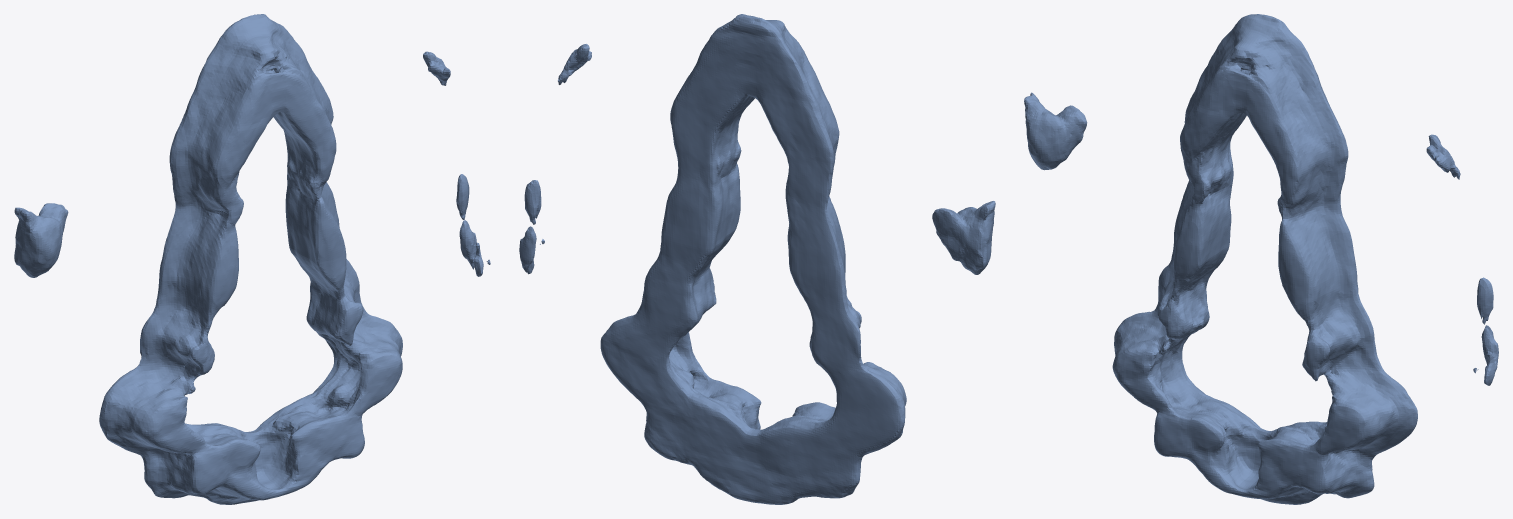
File: abc1_np.glb
3 views of the same model, side by side, from view 1: azimuth 30°, elevation 25°; view 2: azimuth 150°, elevation 25°; view 3: azimuth 330°, elevation 25° (orthographic).
Parts seen in each view (by area): view 1: D:/tensorflow-code/NeuralPull_local/vis/abc/NerualPull/00018; view 2: D:/tensorflow-code/NeuralPull_local/vis/abc/NerualPull/00018; view 3: D:/tensorflow-code/NeuralPull_local/vis/abc/NerualPull/00018.
Boxes of the visible parts, box(x1,y1,x2,y2) form: D:/tensorflow-code/NeuralPull_local/vis/abc/NerualPull/00018: box(14, 14, 490, 504); D:/tensorflow-code/NeuralPull_local/vis/abc/NerualPull/00018: box(519, 14, 995, 504); D:/tensorflow-code/NeuralPull_local/vis/abc/NerualPull/00018: box(1024, 14, 1498, 504).
Size of the model in its own units: 1.01 by 1 by 0.1364.
